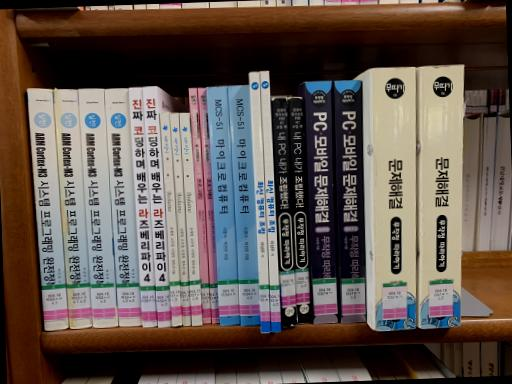book-spine: (420, 65, 464, 328), (372, 67, 415, 330), (26, 88, 68, 330), (77, 88, 118, 327), (53, 89, 92, 328), (104, 88, 141, 326), (304, 80, 339, 324), (206, 86, 240, 325), (334, 79, 366, 323), (228, 85, 260, 326), (142, 86, 171, 327), (128, 87, 156, 327), (271, 96, 297, 326), (259, 71, 281, 332), (248, 72, 270, 332), (288, 97, 311, 324), (197, 87, 219, 324), (189, 88, 210, 323), (168, 112, 191, 326), (179, 113, 202, 326), (159, 111, 181, 326)
